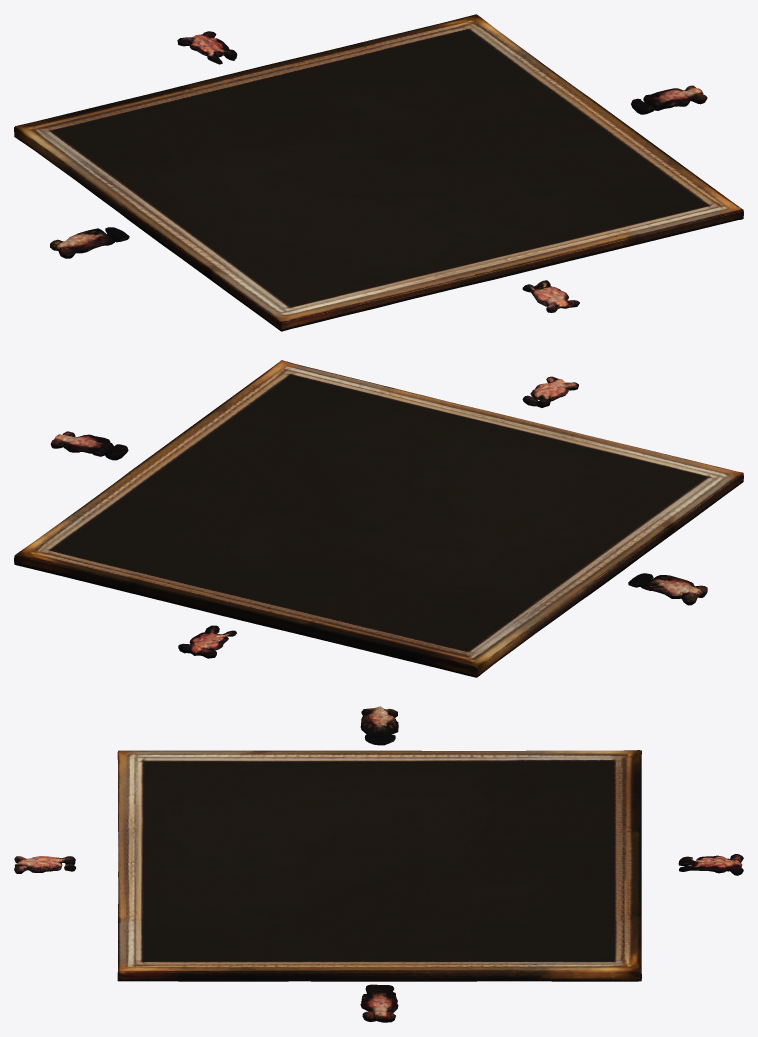
The model's file is wooden-mirror-frame-3d.jpeg.glb.
3 views of the same model, one above another, from view 1: azimuth 30°, elevation 25°; view 2: azimuth 150°, elevation 25°; view 3: azimuth 270°, elevation 25° (orthographic).
Visible parts, largest first — view 1: world; view 2: world; view 3: world.
Part boxes in pixels (box(x1,y1,x2,y2)): world: box(14, 14, 743, 331); world: box(14, 360, 743, 677); world: box(14, 706, 743, 1022).
Size of the model in its own units: 1 by 0.0196 by 0.9982.
1 material, 1 textured.
